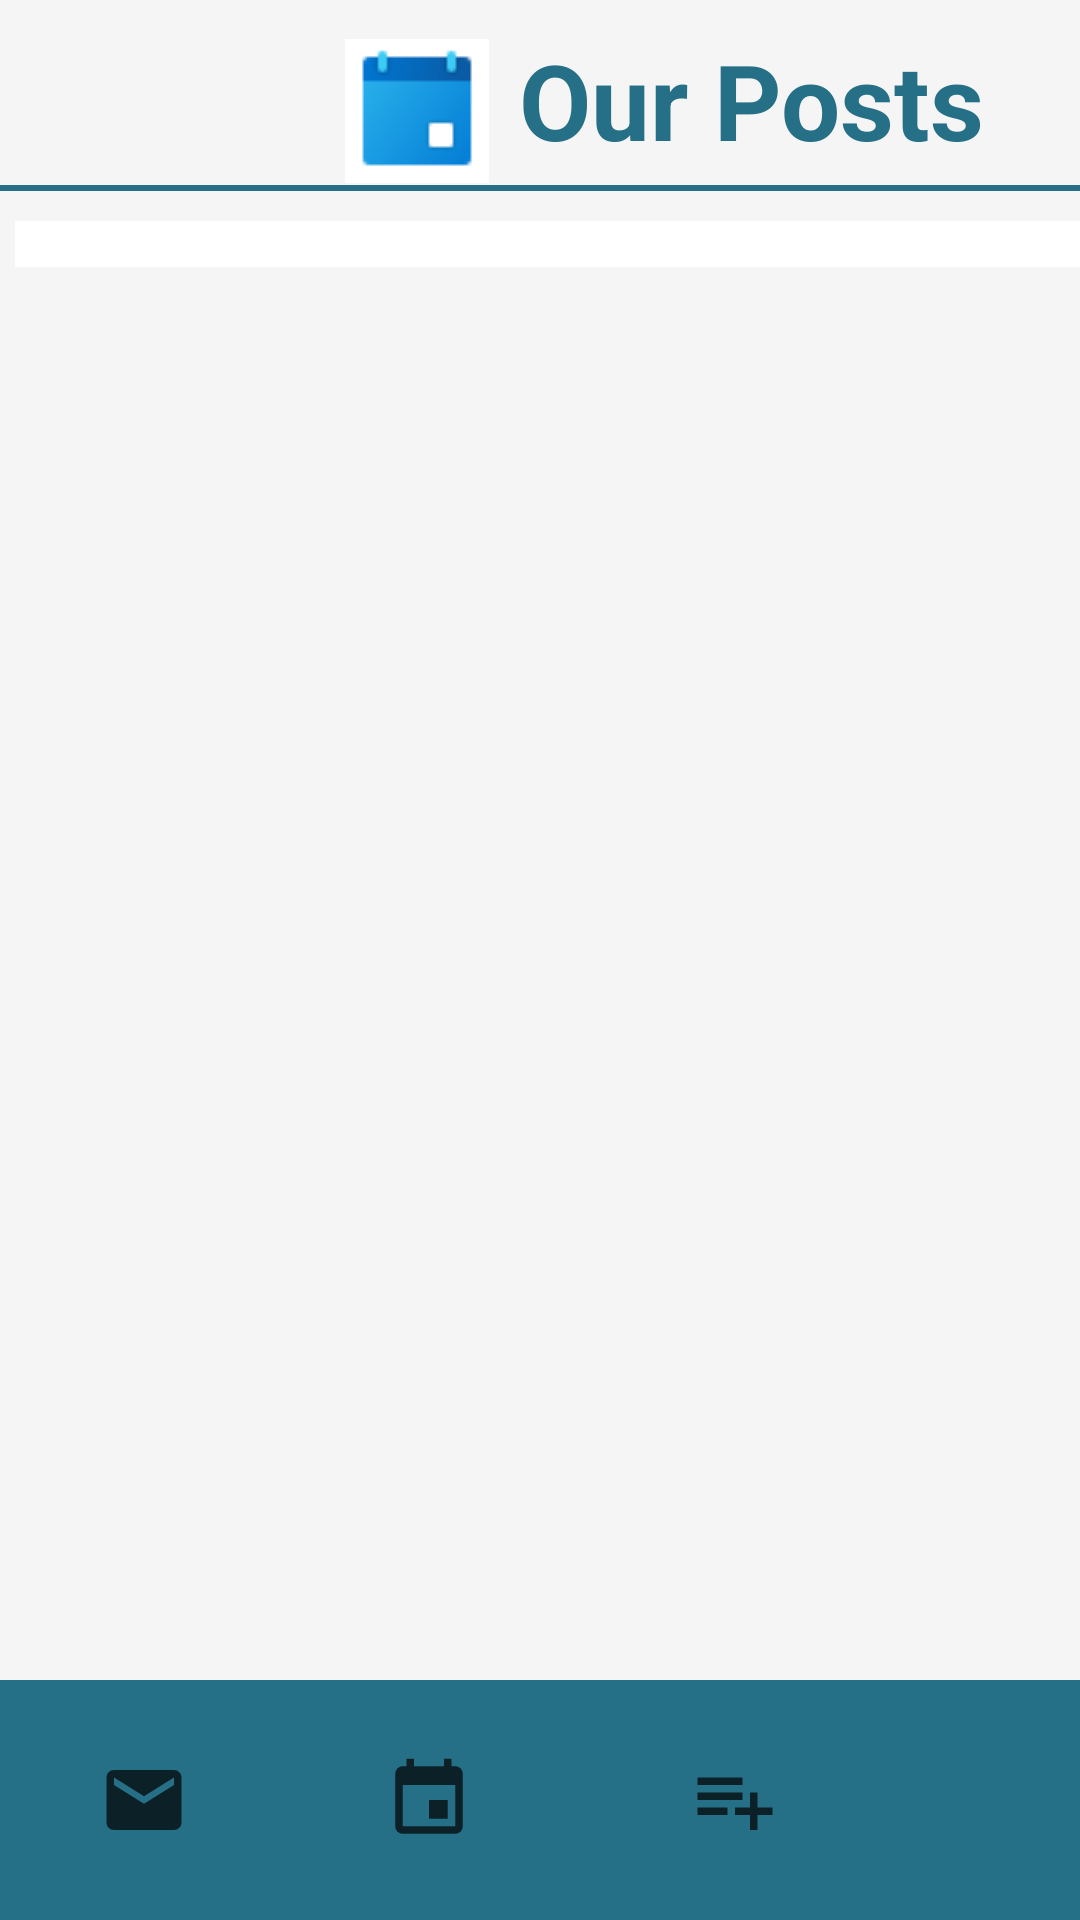

Icon bounding boxes for this 1080*1920 phone screenshot, format (x1, y1, x2, y2):
event category: (362, 50, 472, 166)
wishlist: (697, 1777, 773, 1830)
